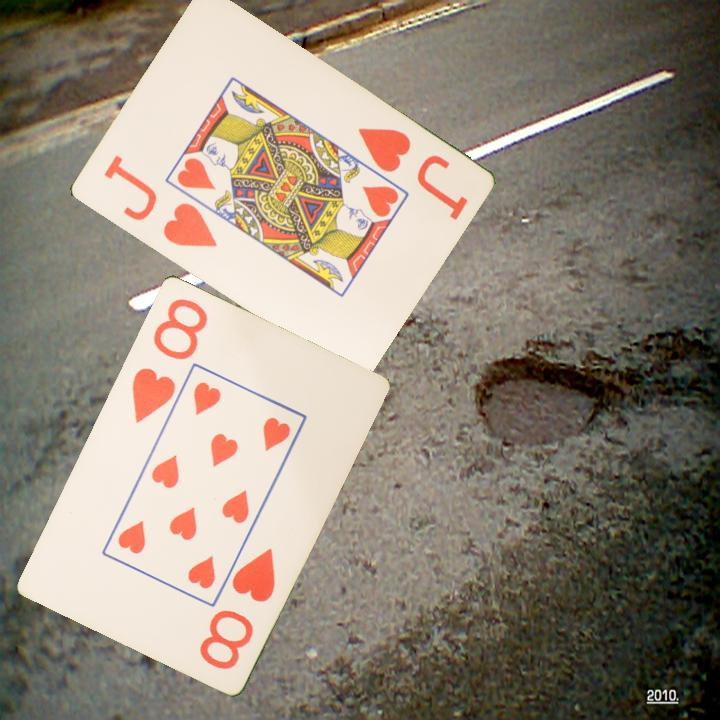8h: (128, 294, 211, 426), (195, 543, 279, 672)
Jh: (99, 152, 220, 251), (353, 124, 414, 176)
